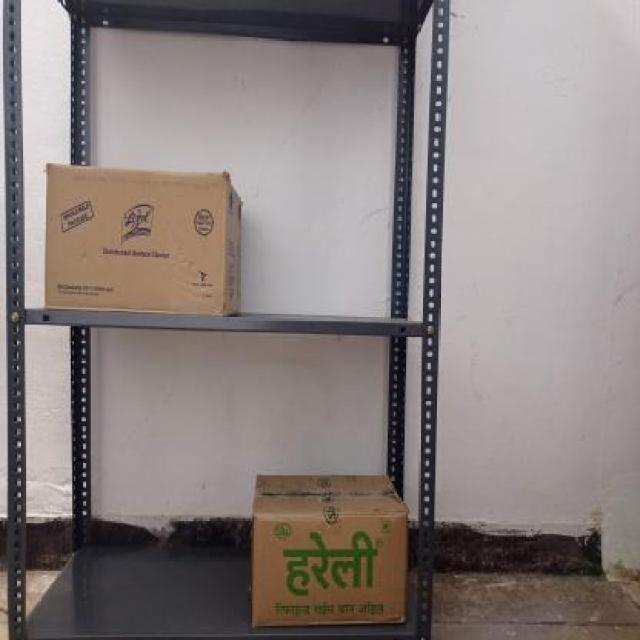box: (42, 162, 230, 316), (252, 516, 406, 626)
